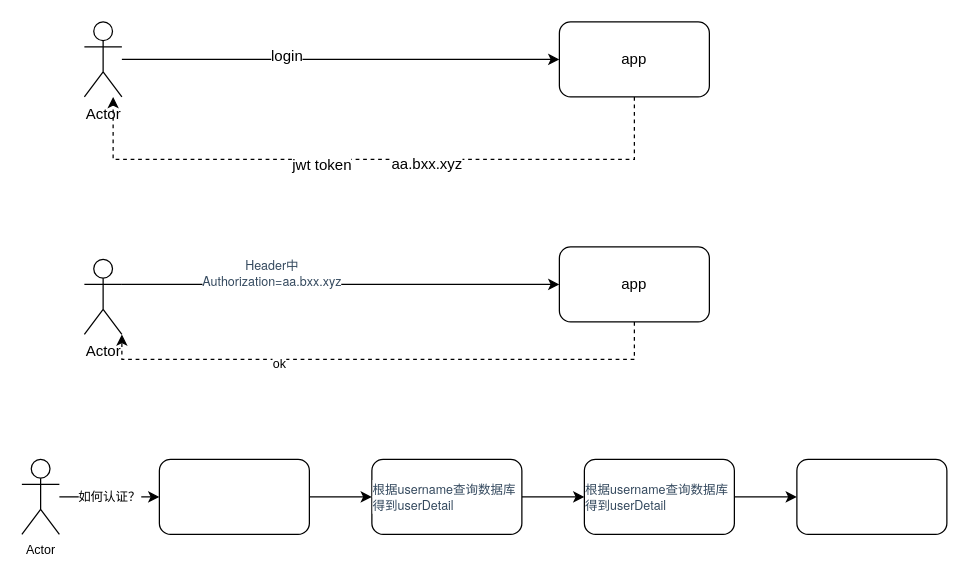
Some shapes in this 969 by 580 pixel diagram are drawn without their labels. Each missing label, with the box of its shape:
从Authorization取出username: (158, 458, 309, 534)
比较userDetail和解析Authorization得到的username，并校验token是否过期: (796, 458, 947, 534)
